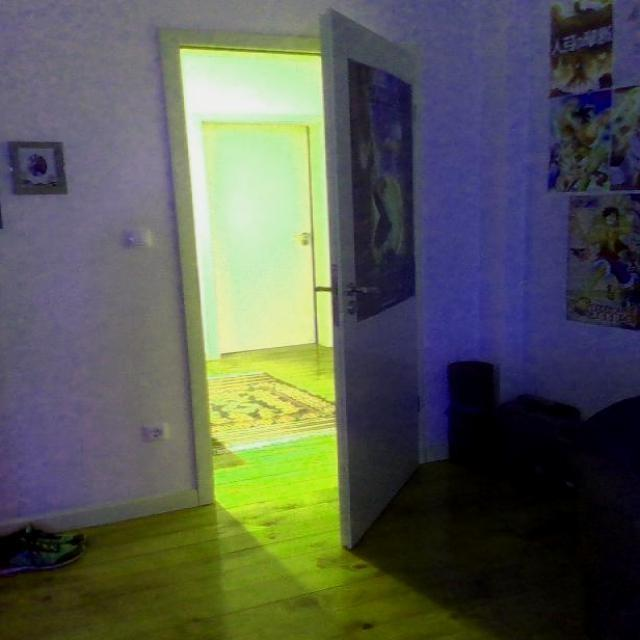door: (292, 1, 434, 570)
